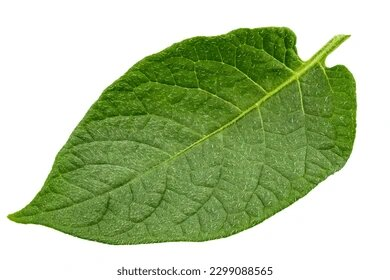potato_leaf: (5, 19, 359, 246)
